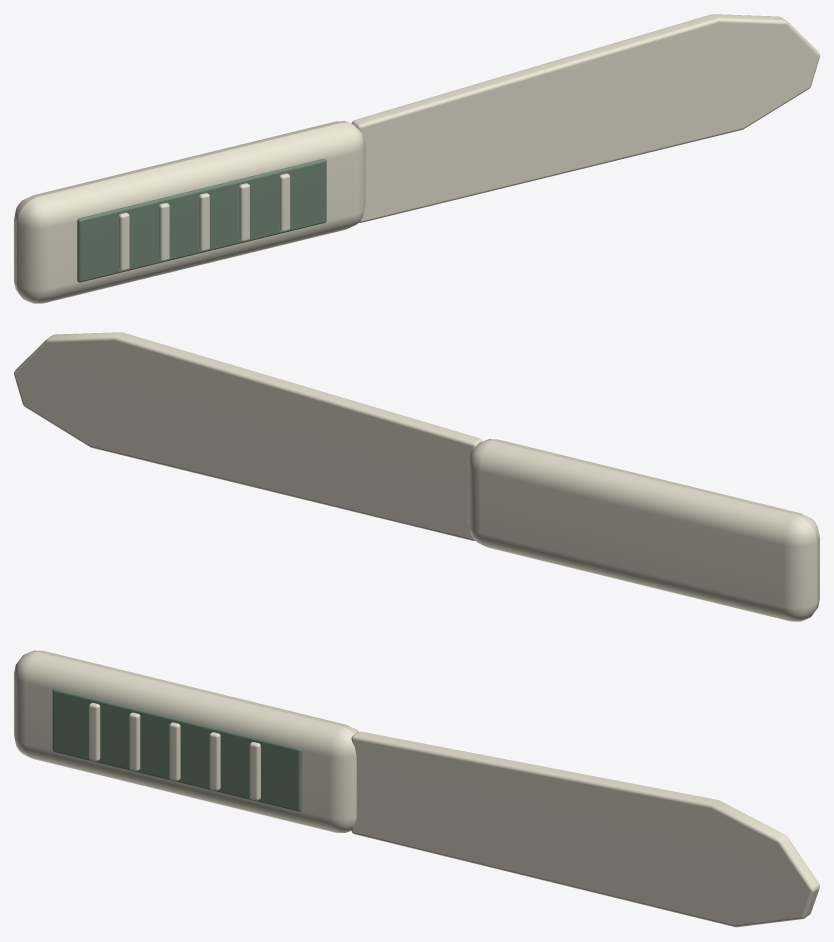
The model's file is plastic_picnic.glb.
3 views of the same model, one above another, from view 1: azimuth 30°, elevation 25°; view 2: azimuth 150°, elevation 25°; view 3: azimuth 330°, elevation 25° (orthographic).
Parts seen in each view (by area): view 1: Molded picnic blade, Rounded picnic handle, Recessed green grip, Molded grip rib, Molded grip rib.002, Molded grip rib.003, Molded grip rib.001, Molded grip rib.004; view 2: Molded picnic blade, Rounded picnic handle; view 3: Molded picnic blade, Rounded picnic handle, Recessed green grip, Molded grip rib.002, Molded grip rib, Molded grip rib.001, Molded grip rib.003, Molded grip rib.004.
Boxes of the visible parts, left/top/right/bottom form: Molded picnic blade: left=351, top=14, right=819, bottom=222; Rounded picnic handle: left=14, top=121, right=365, bottom=303; Recessed green grip: left=77, top=158, right=326, bottom=282; Molded grip rib: left=118, top=212, right=129, bottom=271; Molded grip rib.002: left=198, top=193, right=209, bottom=251; Molded grip rib.003: left=238, top=183, right=249, bottom=241; Molded grip rib.001: left=158, top=203, right=169, bottom=261; Molded grip rib.004: left=279, top=173, right=290, bottom=231; Molded picnic blade: left=14, top=332, right=482, bottom=540; Rounded picnic handle: left=468, top=439, right=819, bottom=621; Molded picnic blade: left=351, top=731, right=819, bottom=927; Rounded picnic handle: left=14, top=650, right=358, bottom=832; Recessed green grip: left=52, top=688, right=301, bottom=811; Molded grip rib.002: left=169, top=722, right=180, bottom=780; Molded grip rib: left=89, top=702, right=100, bottom=761; Molded grip rib.001: left=129, top=712, right=140, bottom=770; Molded grip rib.003: left=209, top=732, right=220, bottom=790; Molded grip rib.004: left=249, top=742, right=260, bottom=800.
Size of the model in its own units: 1.99 by 0.287 by 0.123.
